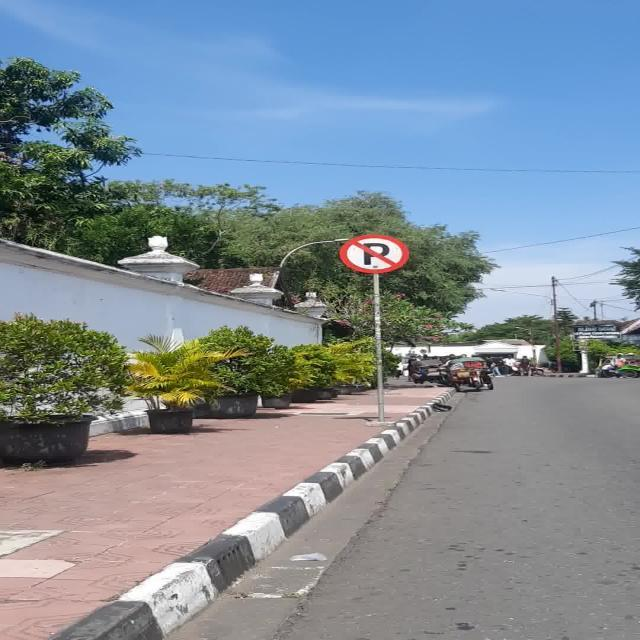Dilarang Parkir: (338, 234, 409, 274)
